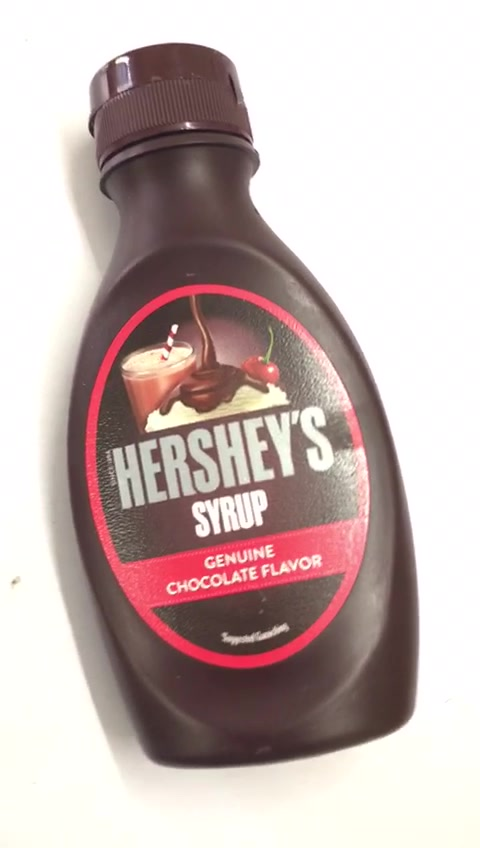hershey: (65, 41, 416, 772)
